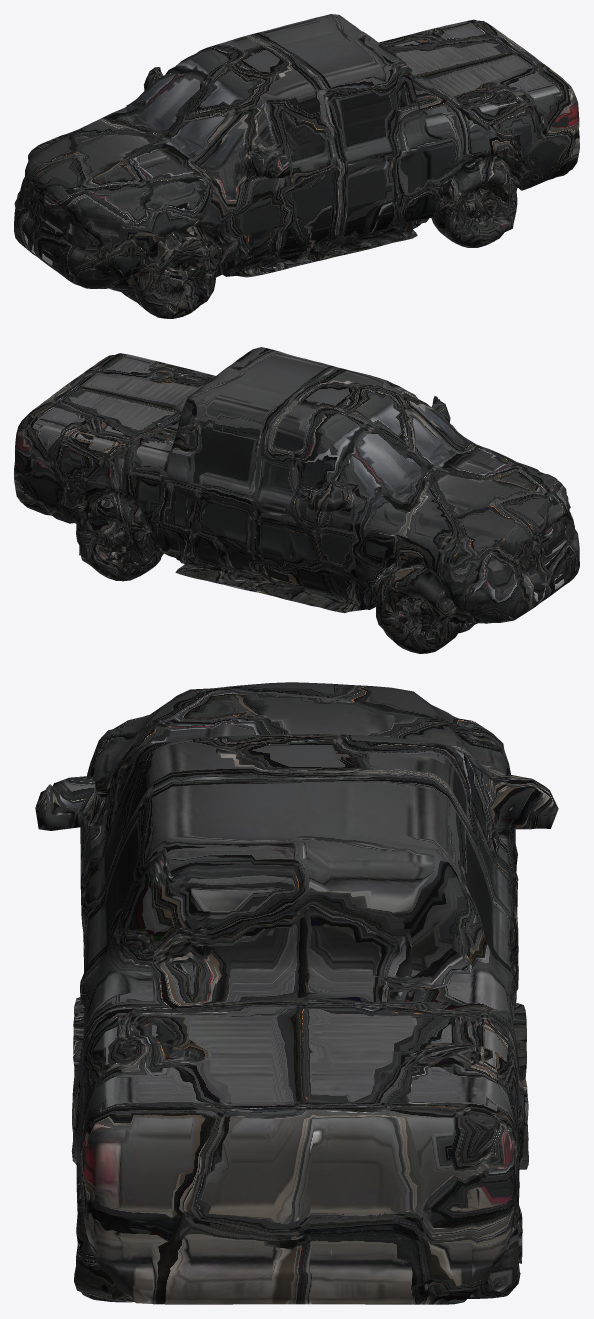
Rendered from car-truck.glb.
3 views of the same model, one above another, from view 1: azimuth 30°, elevation 25°; view 2: azimuth 150°, elevation 25°; view 3: azimuth 270°, elevation 25° (orthographic). The views are drawn at different scales.
Visible parts, largest first — view 1: body; view 2: body; view 3: body.
Boxes of the visible parts, bbox=[...] form: body: bbox=[14, 14, 579, 318]; body: bbox=[14, 347, 579, 653]; body: bbox=[35, 682, 558, 1304].
Bounding box in the file's own units: 1.99 × 0.7407 × 0.9143.
Materials: 1 (1 with a texture image).
